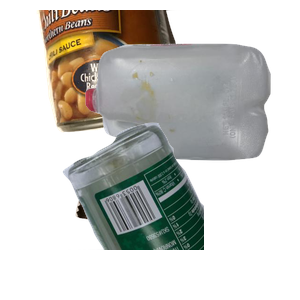glass: (60, 120, 300, 300)
metal: (34, 10, 213, 135)
plastic: (83, 41, 300, 194)
trash: (73, 171, 242, 300)
